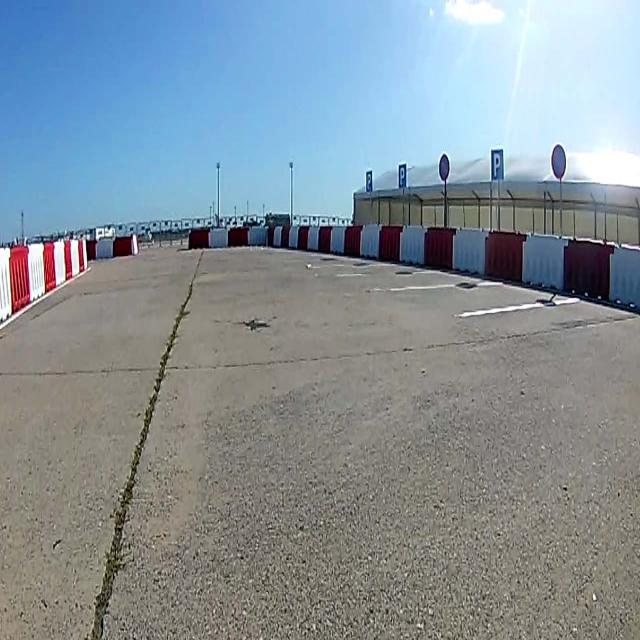park: (491, 149, 504, 182), (398, 164, 407, 188), (366, 171, 372, 192)
parkyasak: (551, 144, 567, 180), (437, 151, 450, 181)
